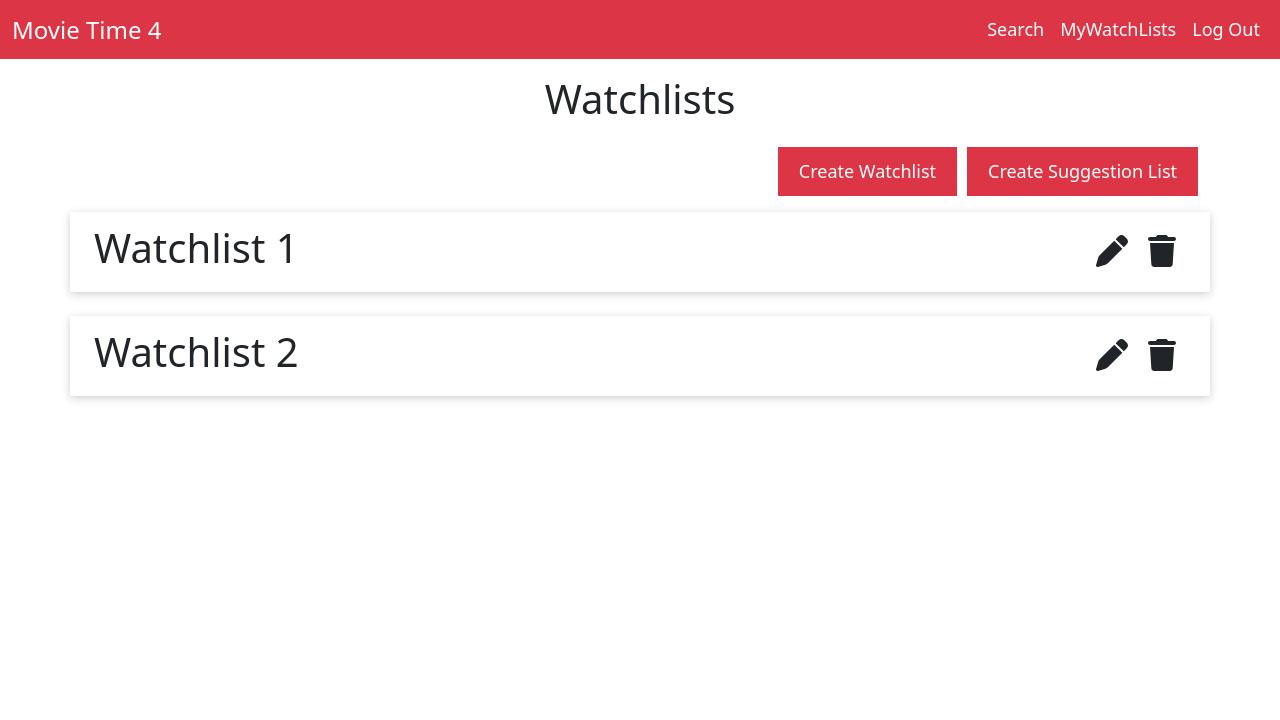
Watchlist page › handleClose when closing the EditWatchlistModal
The image size is (1280, 720).
Click the 1st picture with test id "edit-icon": x=1112, y=251 [1086, 235, 1138, 267]
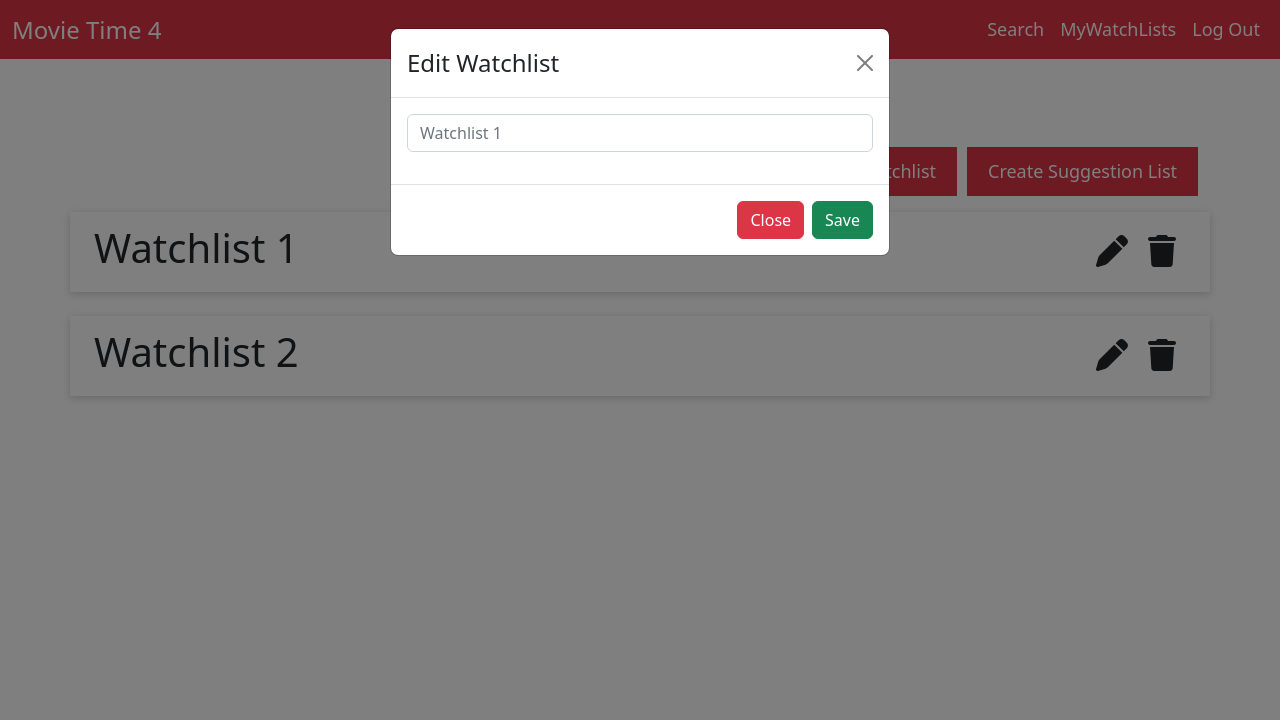
Click the button with test id "editHandleClose": x=771, y=220 [738, 201, 804, 239]
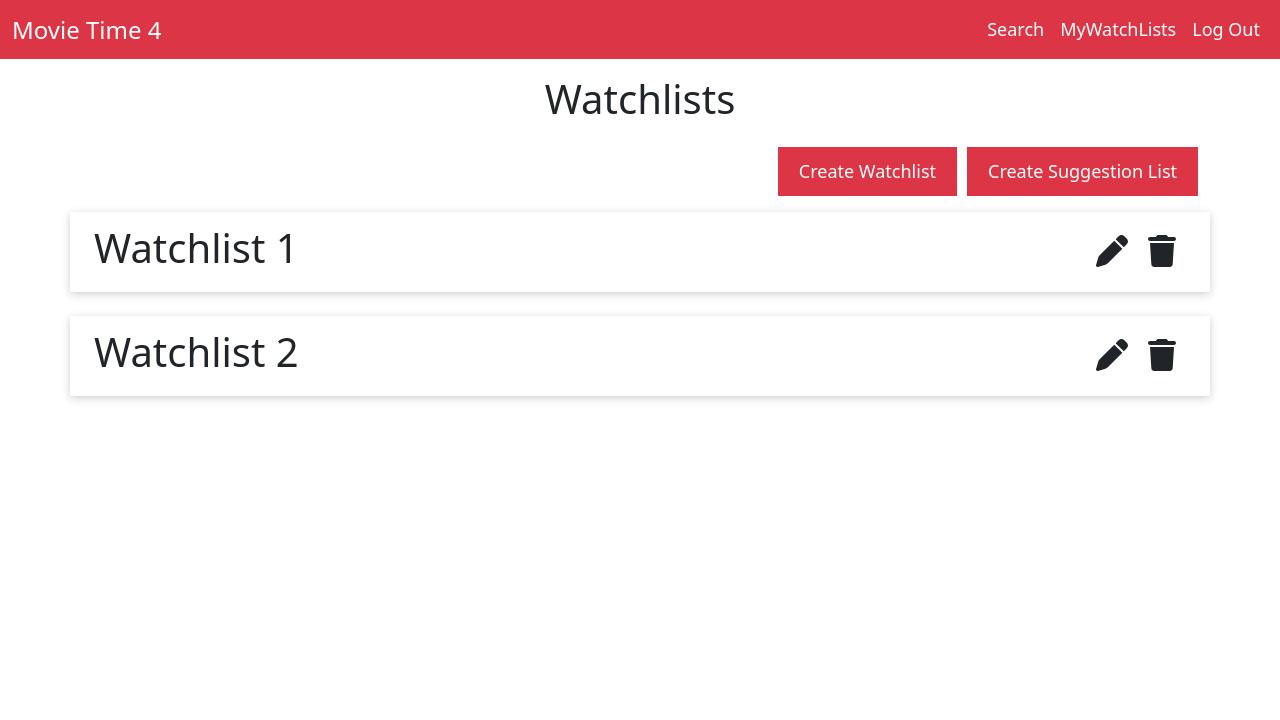
Check: the text "Edit Watchlist" is gone
